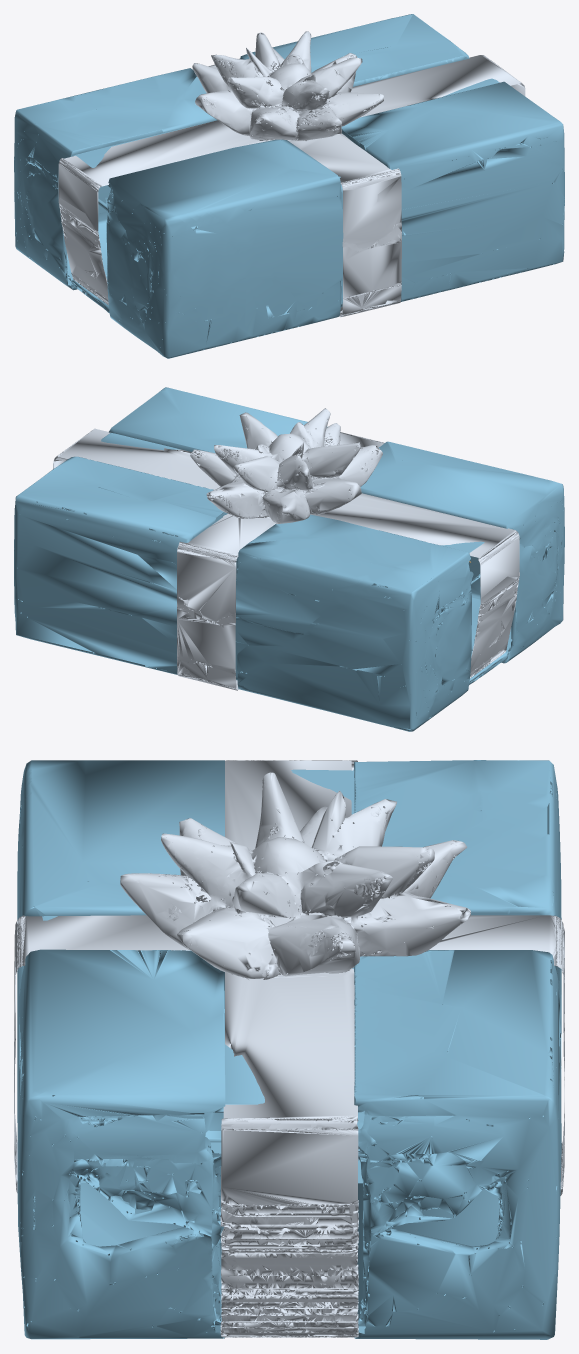
Rendered from giftbox.glb.
3 renders of one model, top to bottom at view 1: azimuth 30°, elevation 25°; view 2: azimuth 150°, elevation 25°; view 3: azimuth 270°, elevation 25°, orthographic. The views are drawn at different scales.
Visible parts, largest first — view 1: 742efa7beef24cbfb2ffe4bef1d2cbc1_dual_latest_p0, 742efa7beef24cbfb2ffe4bef1d2cbc1_dual_latest_p3; view 2: 742efa7beef24cbfb2ffe4bef1d2cbc1_dual_latest_p0, 742efa7beef24cbfb2ffe4bef1d2cbc1_dual_latest_p3; view 3: 742efa7beef24cbfb2ffe4bef1d2cbc1_dual_latest_p0, 742efa7beef24cbfb2ffe4bef1d2cbc1_dual_latest_p3.
Boxes of the visible parts, x1,y1,x2,y2 form: 742efa7beef24cbfb2ffe4bef1d2cbc1_dual_latest_p0: [14, 14, 564, 358]; 742efa7beef24cbfb2ffe4bef1d2cbc1_dual_latest_p3: [58, 31, 525, 317]; 742efa7beef24cbfb2ffe4bef1d2cbc1_dual_latest_p0: [14, 387, 564, 731]; 742efa7beef24cbfb2ffe4bef1d2cbc1_dual_latest_p3: [53, 408, 519, 690]; 742efa7beef24cbfb2ffe4bef1d2cbc1_dual_latest_p0: [17, 760, 561, 1339]; 742efa7beef24cbfb2ffe4bef1d2cbc1_dual_latest_p3: [14, 760, 564, 1337].
Bounding box in the file's own units: 2.18 × 0.9988 × 1.4.
